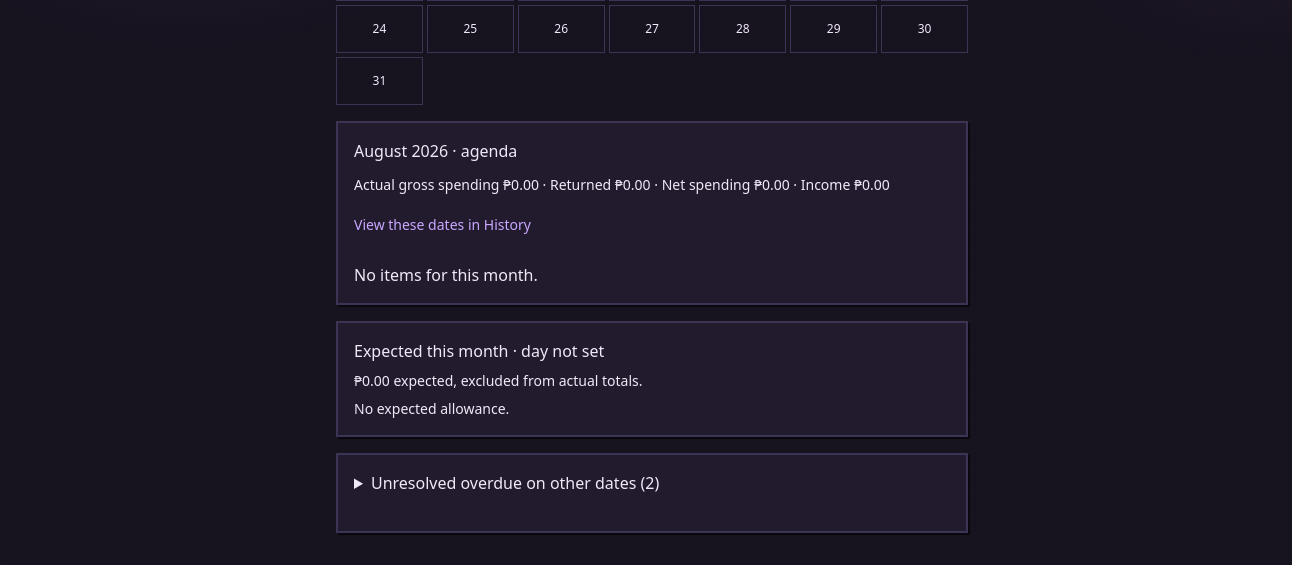
Test: keeps current overdue subscriptions visible while reviewing earlier and future months
(page scrolled)
Expected: the text "No items for this month." is shown, top-left (354, 264), bottom-right (538, 286)
Click the heading "Unresolved overdue on other dates (2)". click: (515, 483)
box: top-left (371, 472), bottom-right (659, 494)
(page scrolled)
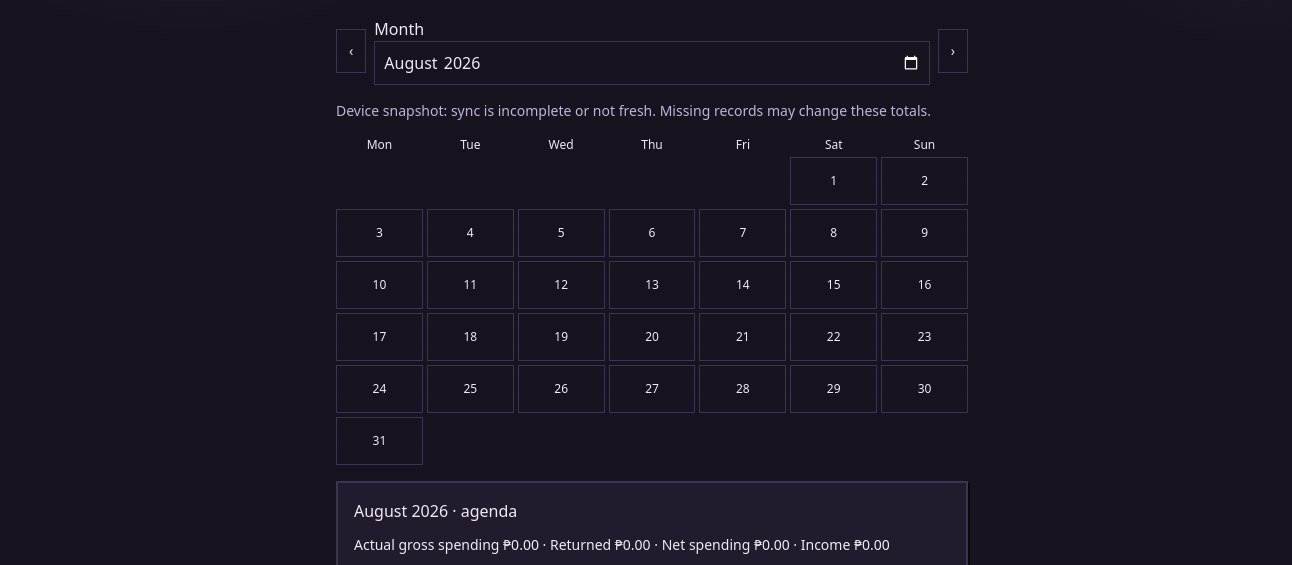
Replace the text in the field labelled "Month" with "2026-11". click: (652, 63)
box: top-left (374, 41), bottom-right (930, 85)
(page scrolled)
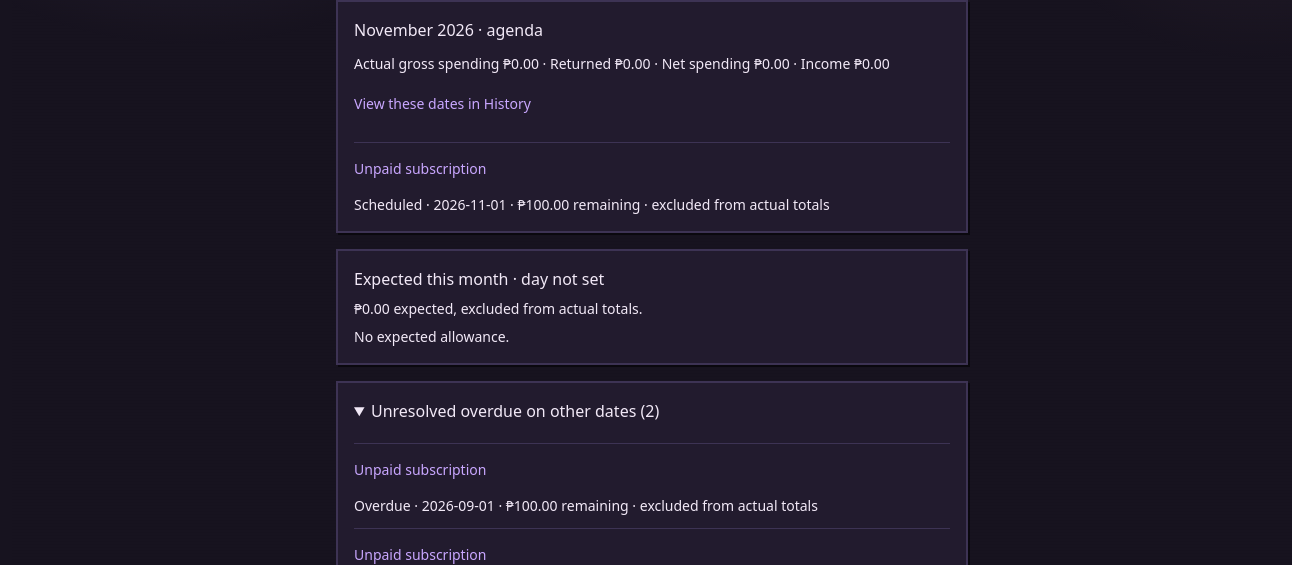
Expected: the heading "Unresolved overdue on other dates (2)" is shown, top-left (371, 400), bottom-right (659, 422)
Expected: the text "Scheduled · 2026-11-01" is shown, top-left (354, 195), bottom-right (830, 214)
Expected: the number of links "Unpaid subscription" is 3, top-left (354, 159), bottom-right (486, 178); top-left (354, 460), bottom-right (486, 479); top-left (354, 545), bottom-right (486, 564)
